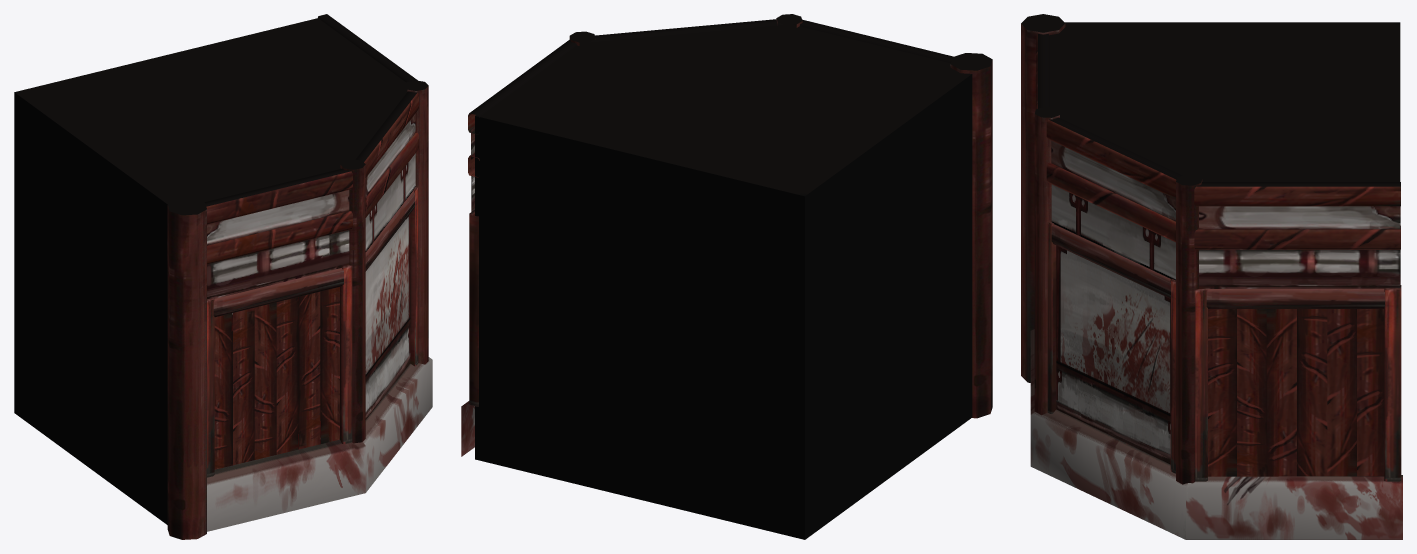
The model's file is STR_WallSimpleCornerRndBroken.FBX.
3 views of the same model, side by side, from view 1: azimuth 30°, elevation 25°; view 2: azimuth 150°, elevation 25°; view 3: azimuth 270°, elevation 25° (orthographic). The views are drawn at different scales.
Visible parts, largest first — view 1: STR_WallSimpleCornerRndBroken; view 2: STR_WallSimpleCornerRndBroken; view 3: STR_WallSimpleCornerRndBroken.
Boxes of the visible parts, x1=… form: STR_WallSimpleCornerRndBroken: x1=14, y1=14, x2=432, y2=539; STR_WallSimpleCornerRndBroken: x1=461, y1=14, x2=992, y2=539; STR_WallSimpleCornerRndBroken: x1=1021, y1=14, x2=1402, y2=539.
Bounding box in the file's own units: 329 × 311 × 305.
1 material, 1 textured.
